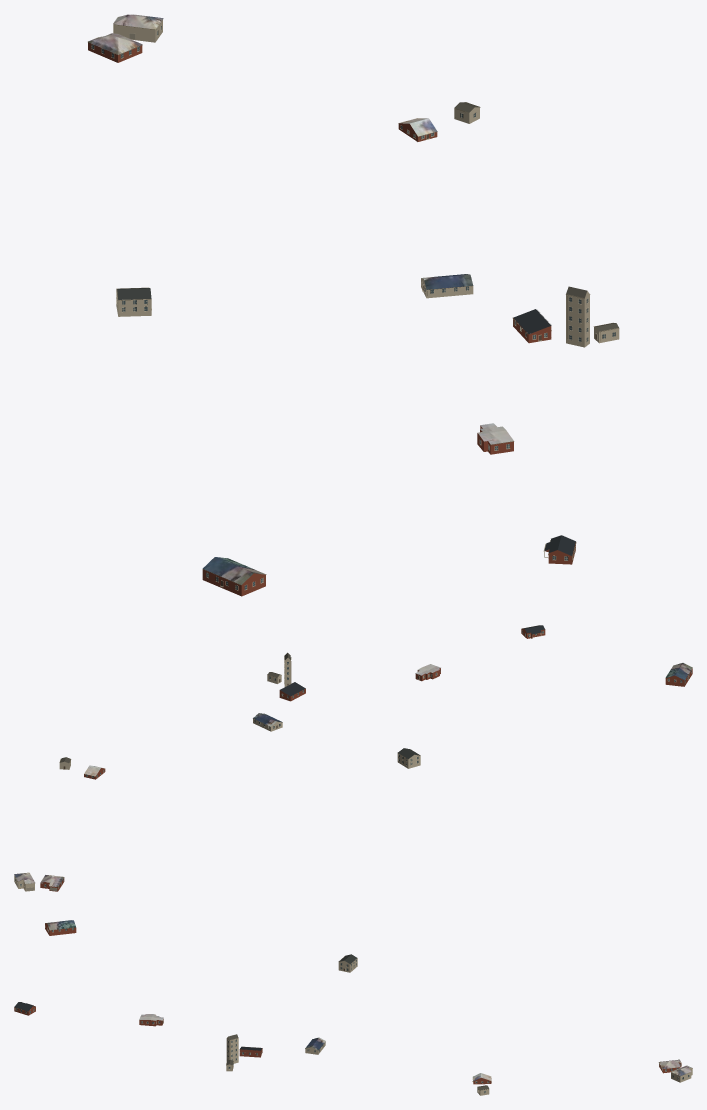
3 renders of one model, top to bottom at view 1: azimuth 30°, elevation 25°; view 2: azimuth 150°, elevation 25°; view 3: azimuth 270°, elevation 25°, orthographic. The views are drawn at different scales.
Parts seen in each view (by area): view 1: -1_16_638334909_2, -1_16_638334910_3, -1_16_638337857_6; view 2: -1_16_638334909_2, -1_16_638334910_3, -1_16_638337857_6; view 3: -1_16_638334909_2, -1_16_638334910_3, -1_16_638337857_6.
Part boxes in pixels (box(x1,y1,x2,y2)): -1_16_638334909_2: box(88, 14, 619, 596); -1_16_638334910_3: box(113, 20, 619, 586); -1_16_638337857_6: box(117, 102, 618, 555); -1_16_638334909_2: box(14, 625, 692, 891); -1_16_638334910_3: box(14, 656, 688, 891); -1_16_638337857_6: box(60, 625, 544, 763); -1_16_638334909_2: box(14, 920, 692, 1093); -1_16_638334910_3: box(163, 958, 692, 1095); -1_16_638337857_6: box(14, 954, 488, 1090).
Size of the model in its own units: 295 by 32.37 by 505.
Materials: 12 (1 with a texture image).
